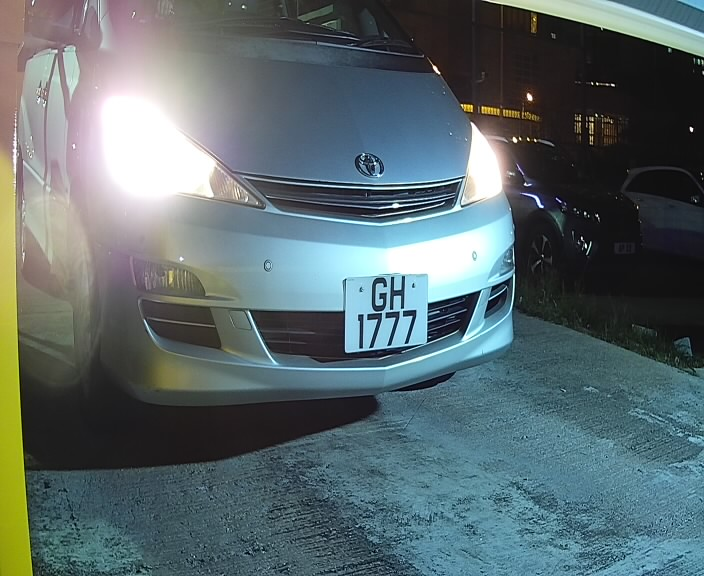Car: (33, 3, 530, 460)
License Plate: (336, 264, 444, 365)
